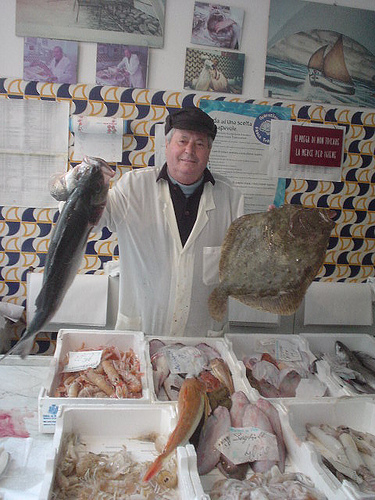fish: (10, 161, 111, 361), (205, 205, 341, 323), (143, 371, 211, 483), (327, 337, 373, 396), (241, 403, 275, 472)
